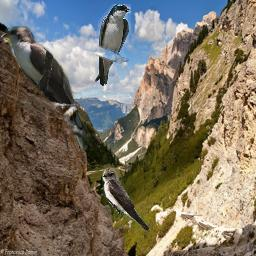Cuckoo: (1, 26, 95, 150)
Swallow: (102, 167, 151, 231), (95, 4, 131, 86)
